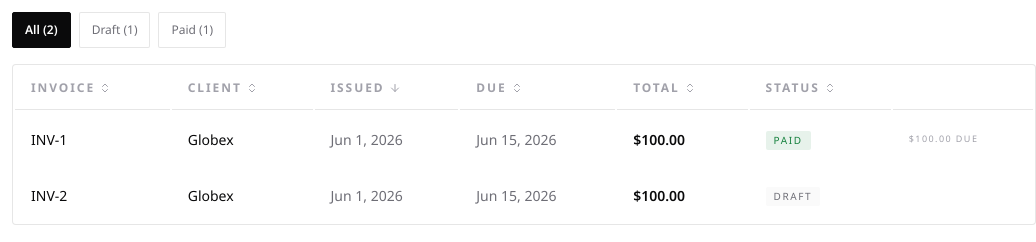
it: InvoiceTable › filters by status
The width and height of the screenshot is (1036, 242).
Click the button "Paid (1)": click(192, 30) top-left (158, 12), bottom-right (226, 48)
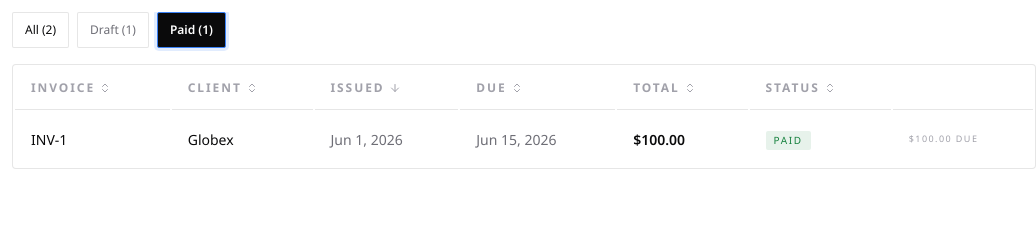
Expected: the link "INV-1" is shown, top-left (31, 130), bottom-right (67, 148)
Now the link "INV-2" is gone
